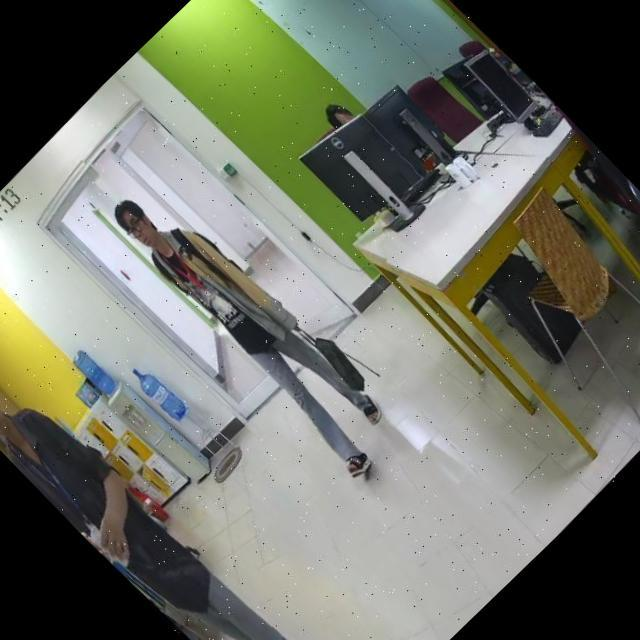person: (0, 306, 390, 640), (94, 168, 403, 484)
